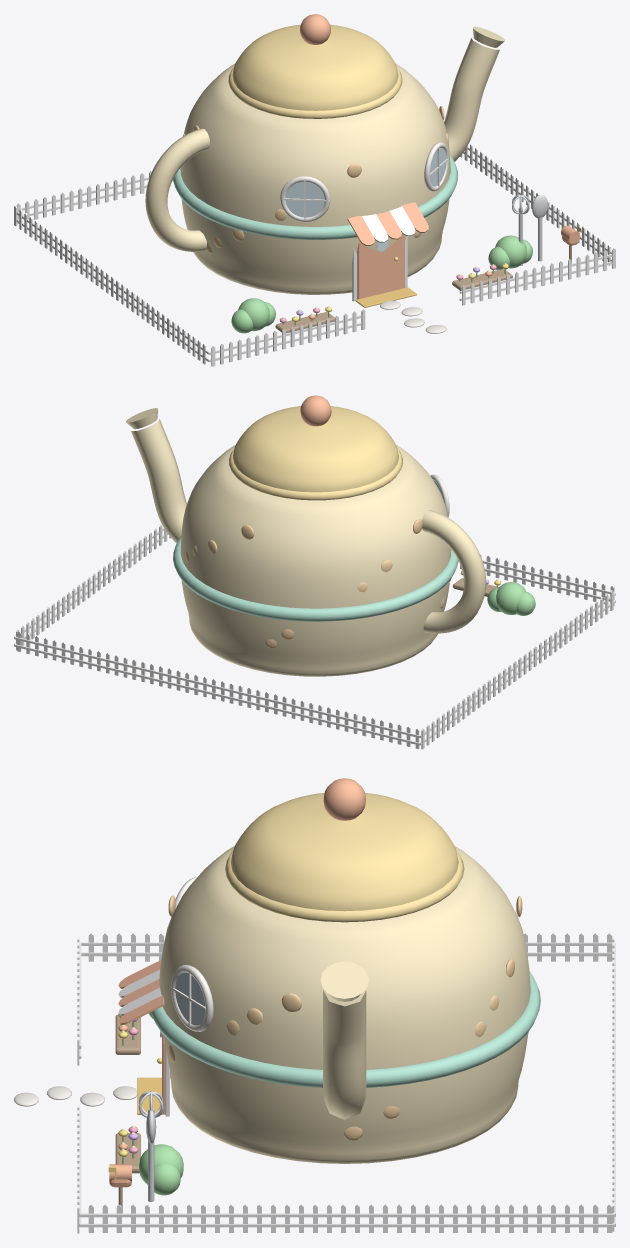
File: building_kitchen_L08.glb
3 views of the same model, one above another, from view 1: azimuth 30°, elevation 25°; view 2: azimuth 150°, elevation 25°; view 3: azimuth 270°, elevation 25° (orthographic). The views are drawn at different scales.
Parts seen in each view (by area): view 1: Body, kitchen_L8; view 2: Body, kitchen_L8; view 3: Body, kitchen_L8.
Part boxes in pixels (x1,y1,x2,y2): Body: [145, 14, 547, 307]; kitchen_L8: [14, 144, 615, 366]; Body: [126, 395, 486, 676]; kitchen_L8: [14, 525, 615, 749]; Body: [118, 778, 540, 1201]; kitchen_L8: [14, 933, 615, 1233].
Size of the model in its own units: 25.35 by 13.93 by 23.64.
